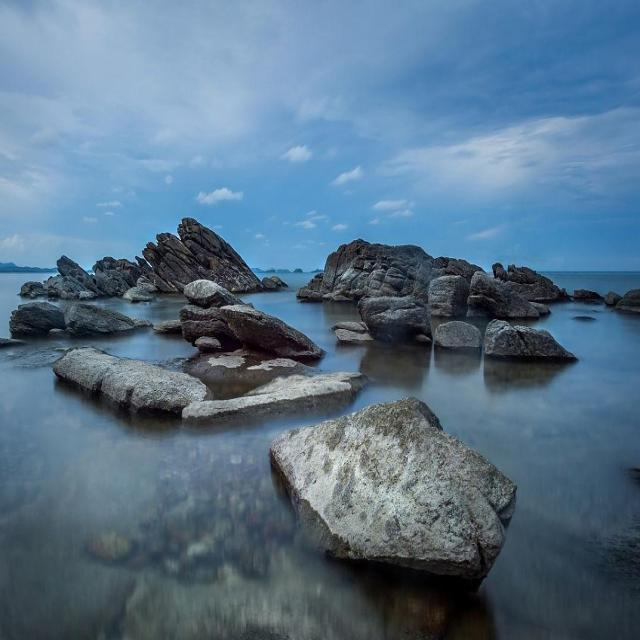reef: (14, 188, 560, 597)
